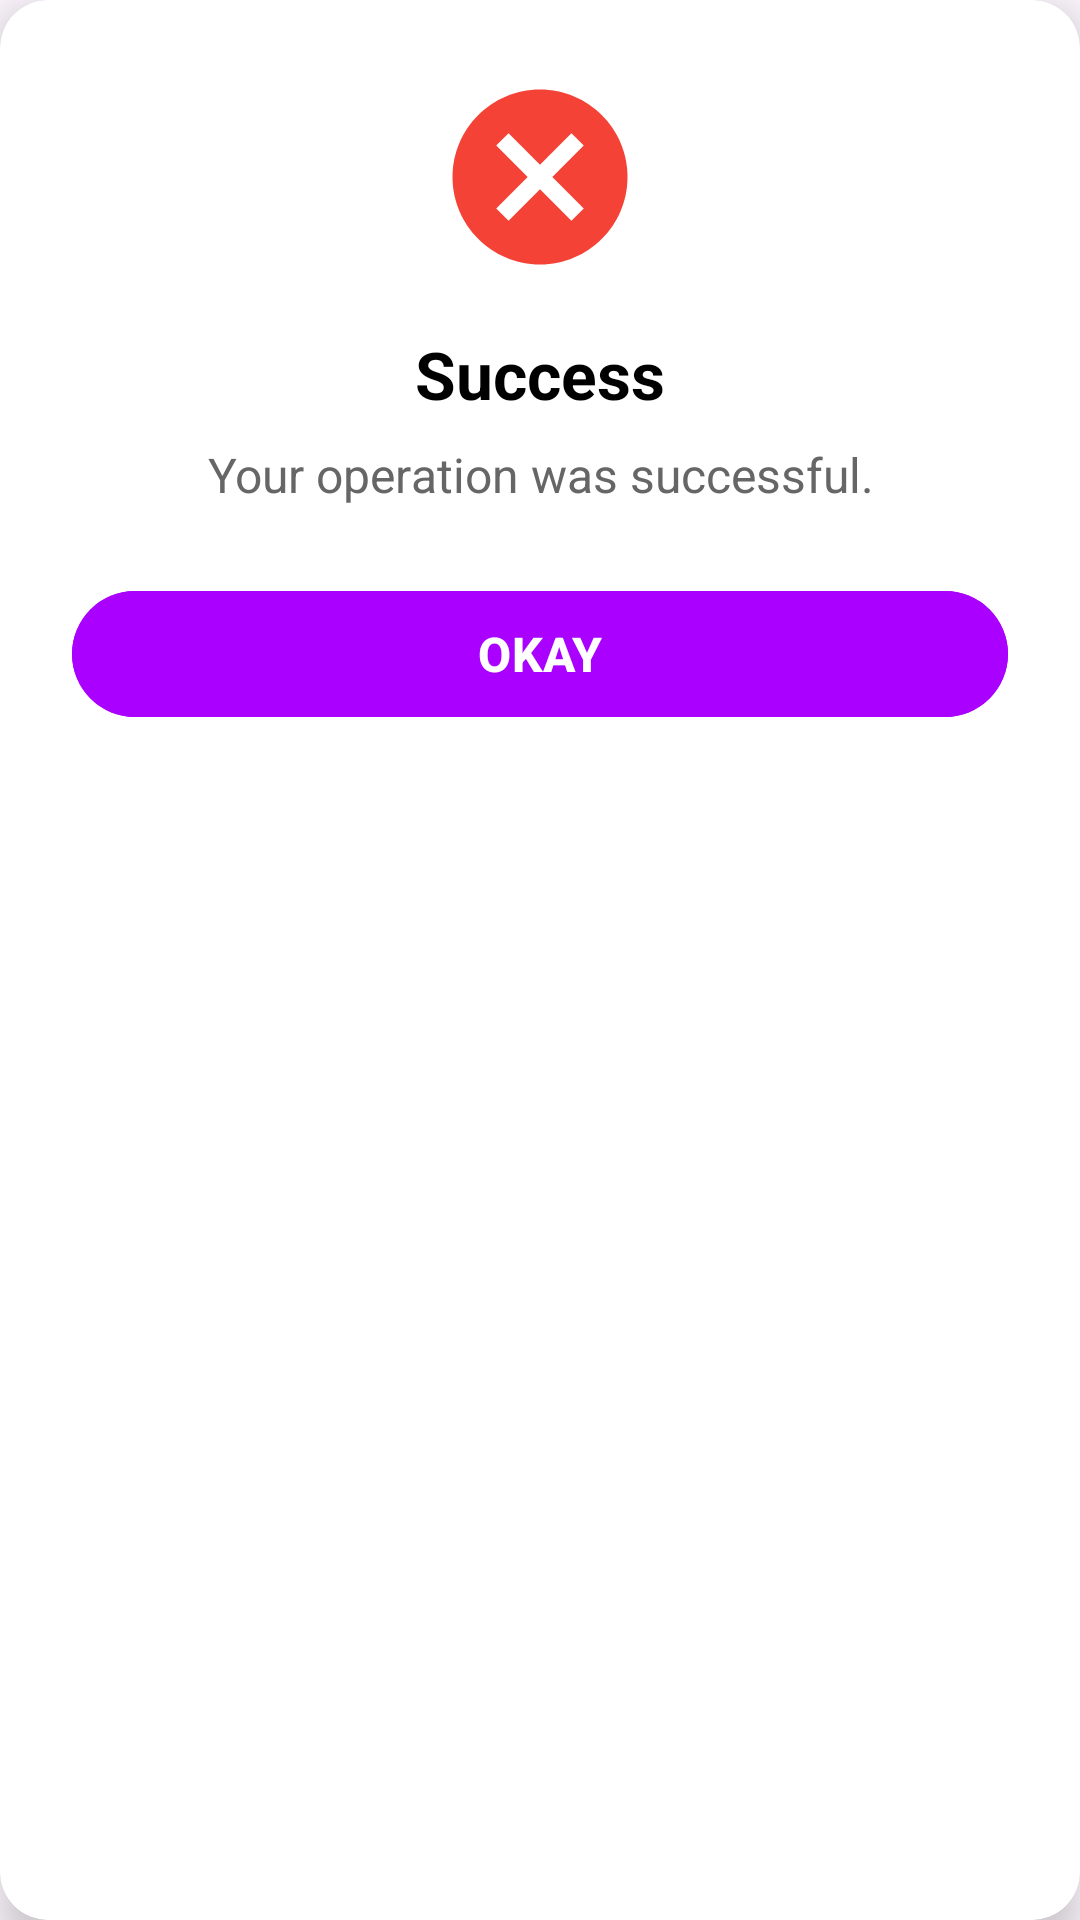

Icon click points for this 1080w x 1920h phone screenshot, format [x,y]:
error: [540,177]
